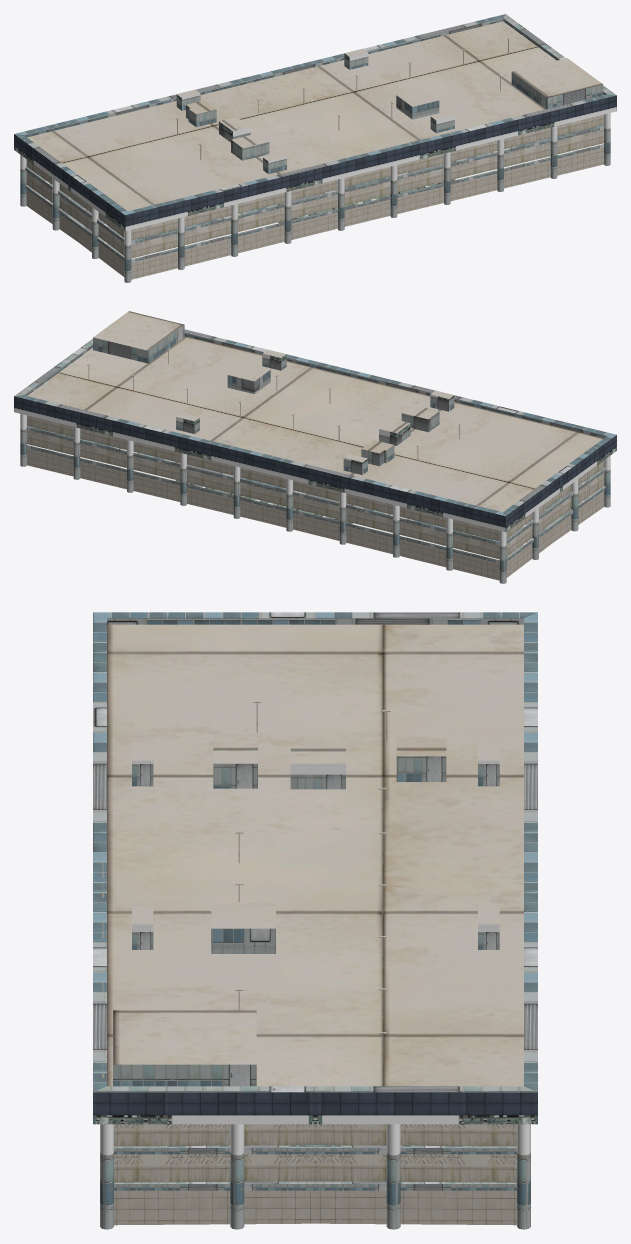
File: Terminal3Garage.exact.glb
The picture shows the model from 3 angles, top to bottom: view 1: azimuth 30°, elevation 25°; view 2: azimuth 150°, elevation 25°; view 3: azimuth 270°, elevation 25°; orthographic projection. The views are drawn at different scales.
Parts seen in each view (by area): view 1: Terminal3Garage; view 2: Terminal3Garage; view 3: Terminal3Garage.
Boxes of the visible parts, x1=… form: Terminal3Garage: x1=14, y1=14, x2=616, y2=282; Terminal3Garage: x1=14, y1=311, x2=616, y2=583; Terminal3Garage: x1=93, y1=612, x2=537, y2=1229.
Bounding box in the file's own units: 161 × 30.4 × 63.2.
1 material, 1 textured.
